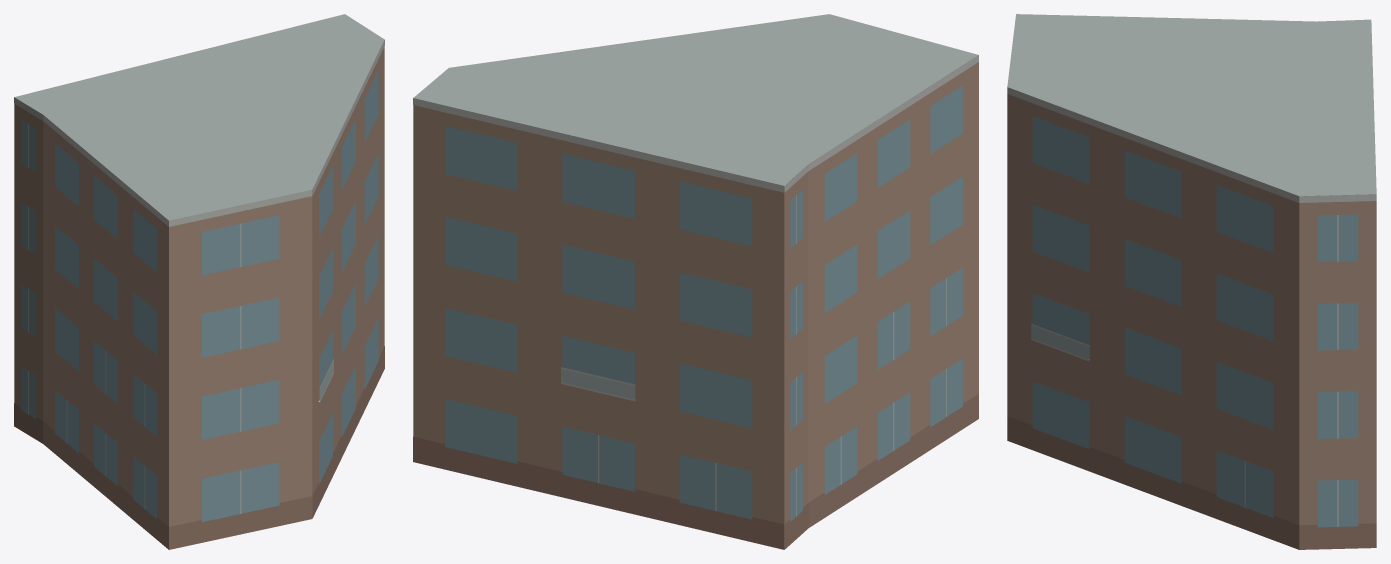
Rendered from survey-upis-32929454.glb.
The picture shows the model from 3 angles, left to right: view 1: azimuth 30°, elevation 25°; view 2: azimuth 150°, elevation 25°; view 3: azimuth 270°, elevation 25°; orthographic projection. The views are drawn at different scales.
Visible parts, largest first — view 1: survey-upis-32929454.tmp; view 2: survey-upis-32929454.tmp; view 3: survey-upis-32929454.tmp.
Part boxes in pixels (x1,y1,x2,y2): survey-upis-32929454.tmp: [14, 14, 384, 549]; survey-upis-32929454.tmp: [413, 14, 978, 549]; survey-upis-32929454.tmp: [1007, 14, 1376, 549].
Bounding box in the file's own units: 14.15 × 12.8 × 12.13.
